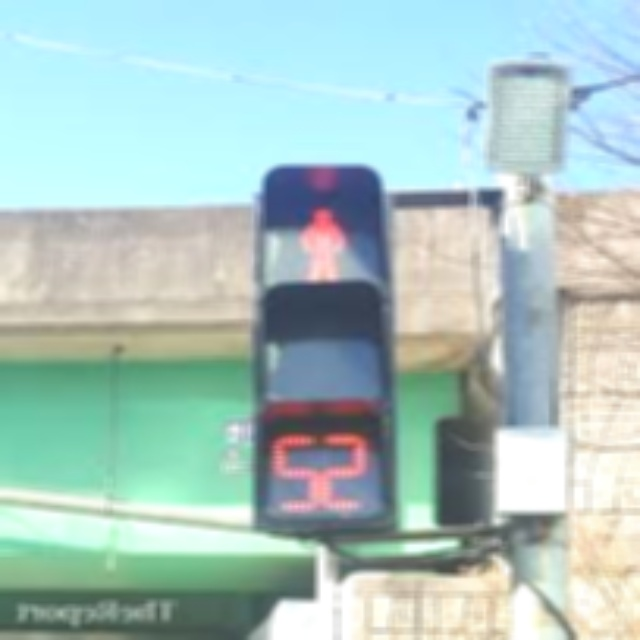red_light: (272, 433, 373, 520), (292, 207, 356, 287)
